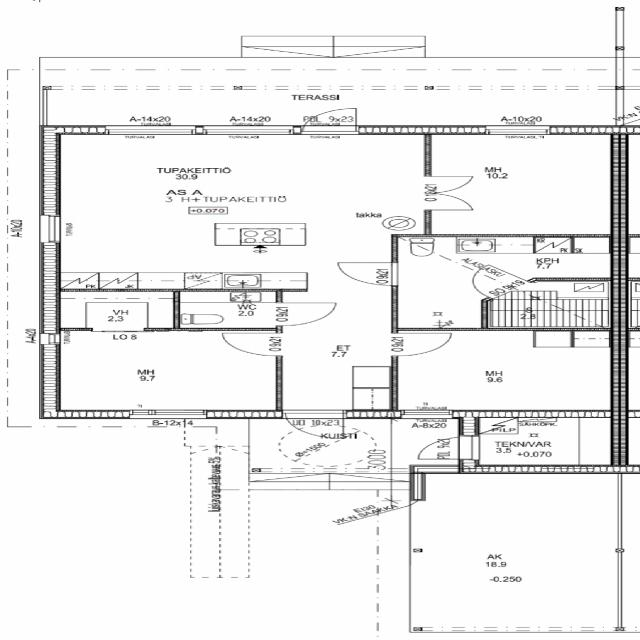door: (450, 264, 530, 298), (285, 410, 342, 443), (404, 436, 479, 459), (303, 102, 356, 134), (222, 333, 282, 356), (392, 333, 451, 356), (338, 263, 398, 285), (276, 303, 334, 325), (424, 193, 470, 210), (424, 176, 470, 193)
